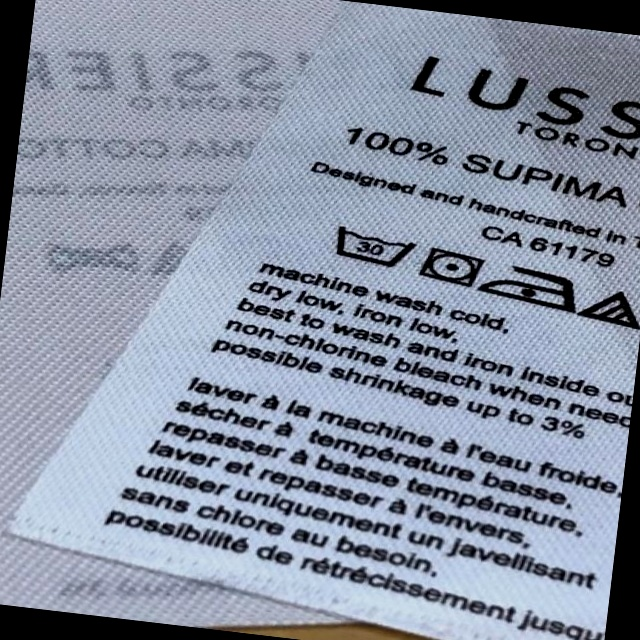30C: (328, 218, 422, 274)
iron_low: (482, 255, 586, 311)
non_chlorine_bleach: (580, 283, 640, 330)
tumble_dry_low: (420, 240, 489, 292)
